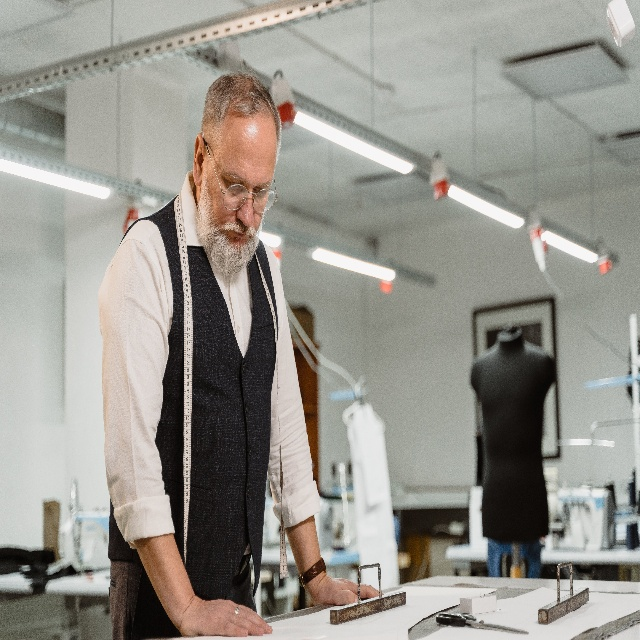Gafas: (223, 178, 279, 216)
Sin_guantes: (184, 599, 273, 640), (313, 577, 383, 612)
